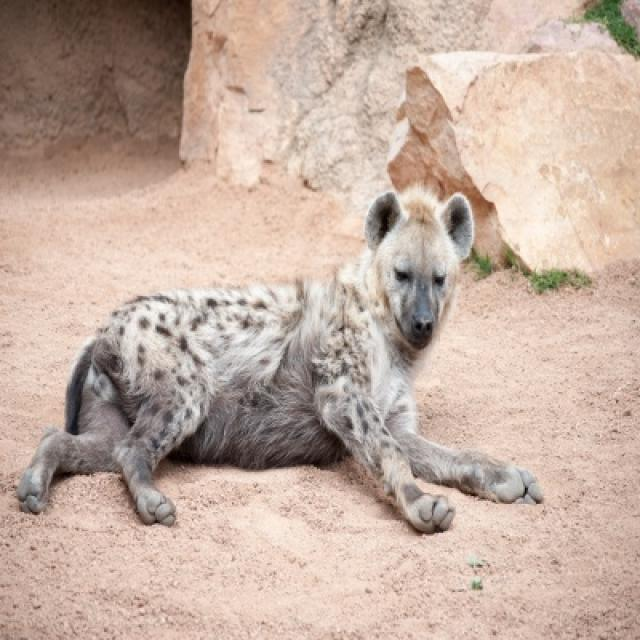hyena: (16, 186, 544, 536)
